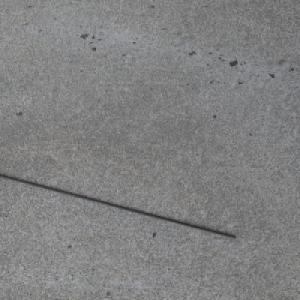LuggagePart: (0, 173, 237, 239)
